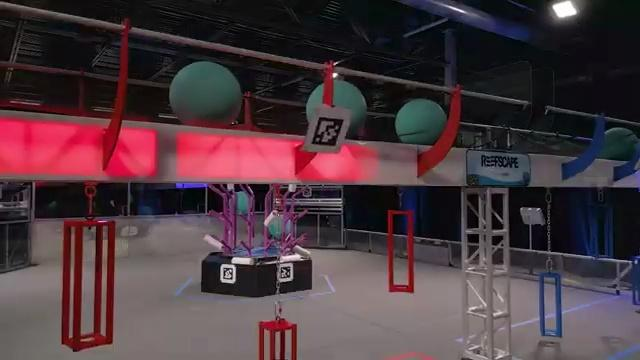ALGAE: (168, 61, 242, 130), (307, 80, 367, 140), (394, 97, 447, 145), (598, 128, 638, 164)
